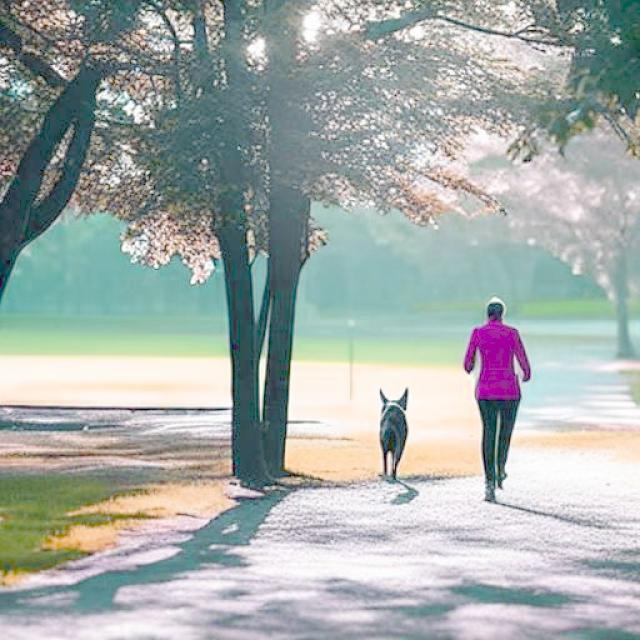Unleashed_Dog: (378, 378, 518, 481)
